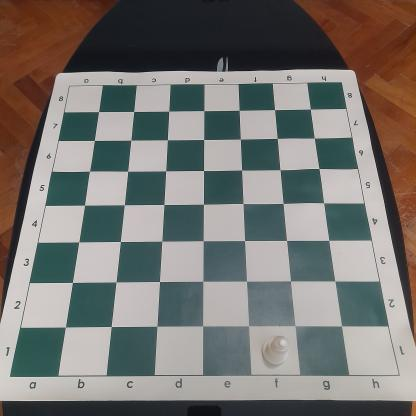white-bishop: (261, 333, 292, 367)
